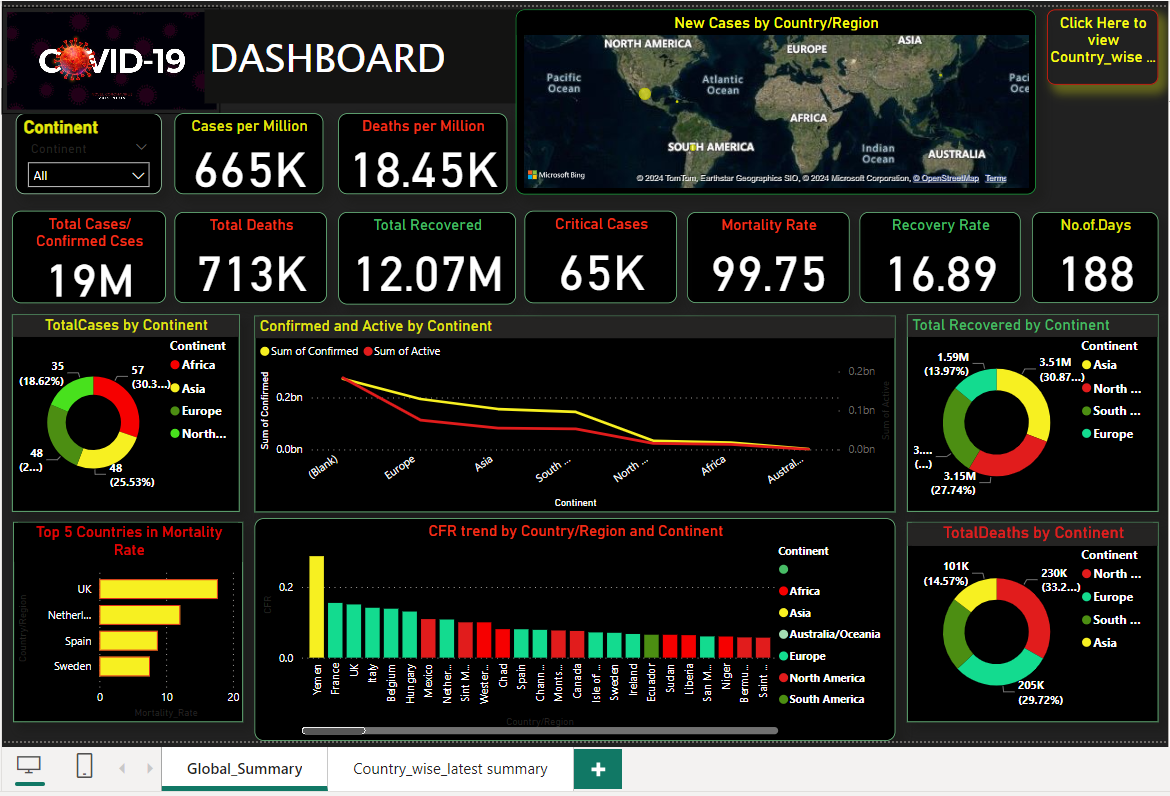

The dashboard page shown, as its layout file describes it:
{"tool":"powerbi","page":{"name":"Global_Summary","canvas":[1291,813],"ordinal":0},"visuals":[{"type":"card","title":"Total Cases/ Confirmed Cses","fields":{"Values":["Sum(worldometer_data.TotalCases)"]},"box":[11.1,225.6,170.2,102.4],"z":0},{"type":"card","title":"Total Deaths","fields":{"Values":["Sum(worldometer_data.TotalDeaths)"]},"box":[191,227,168.8,101],"z":1000},{"type":"card","title":"Total Recovered","fields":{"Values":["Sum(worldometer_data.TotalRecovered)"]},"box":[372.3,227,196.5,102.4],"z":2000},{"type":"slicer","title":"Continent","fields":{"Values":["worldometer_data.Continent"]},"box":[15.2,117.6,161.9,90],"z":3000},{"type":"card","title":"No.of.Days","fields":{"Values":["Count(full_grouped.Date)"]},"box":[1140.4,227,139.8,101],"z":4000},{"type":"lineChart","title":"Confirmed and Active by Continent","fields":{"Y":["Sum(full_grouped.Confirmed)"],"Y2":["Sum(full_grouped.Active)"],"Category":["worldometer_data.Continent"]},"box":[279.6,341.9,710,217.3],"z":5000},{"type":"card","title":"Recovery Rate","fields":{"Values":["worldometer_data.Recovery_Rate"]},"box":[949.4,227,178.5,101],"z":6000},{"type":"card","title":"Mortality Rate","fields":{"Values":["worldometer_data.Mortality_Rate"]},"box":[758.4,227,179.9,101],"z":7000},{"type":"lineStackedColumnComboChart","title":"CFR trend  by Country/Region and Continent","fields":{"Y":["worldometer_data.CFR"],"Series":["worldometer_data.Continent"],"Category":["worldometer_data.Country/Region"]},"box":[279.6,566.1,710,246.4],"z":8000},{"type":"image","box":[0,0,241.5,118],"z":9000},{"type":"textbox","box":[223.7,2.7,370.5,104.3],"z":10000},{"type":"card","title":"Critical Cases","fields":{"Values":["Sum(worldometer_data.Serious,Critical)"]},"box":[578.5,225.6,168.8,102.4],"z":11000},{"type":"card","title":"Cases per Million","fields":{"Values":["Sum(worldometer_data.Tot Cases/1M pop)"]},"box":[191,117.6,164.7,90],"z":12000},{"type":"card","title":"Deaths per Million","fields":{"Values":["Sum(worldometer_data.Deaths/1M pop)"]},"box":[372.3,117.6,186.8,90],"z":13000},{"type":"donutChart","title":" TotalCases by Continent","fields":{"Y":["CountNonNull(worldometer_data.TotalCases)"],"Category":["worldometer_data.Continent"]},"box":[11.1,340.5,251.9,218.7],"z":14000},{"type":"donutChart","title":"TotalDeaths by Continent","fields":{"Y":["Sum(worldometer_data.TotalDeaths)"],"Category":["worldometer_data.Continent"]},"box":[1002,570.2,278.2,221.4],"z":15000},{"type":"donutChart","title":"Total Recovered by Continent","fields":{"Y":["Sum(worldometer_data.TotalRecovered)"],"Category":["worldometer_data.Continent"]},"box":[1002,340.5,278.2,218.7],"z":16000},{"type":"barChart","title":"Top 5 Countries in Mortality Rate","fields":{"Category":["worldometer_data.Country/Region"],"Y":["worldometer_data.Mortality_Rate"]},"box":[12.5,570.2,254.7,221.4],"z":17000},{"type":"map","title":"New Cases by Country/Region","fields":{"Category":["worldometer_data.Country/Region"],"Size":["Sum(worldometer_data.NewCases)"]},"box":[568.8,2.8,575.7,204.8],"z":18000},{"type":"actionButton","title":"Click Here to view  Country_wise Summary ","box":[1157,2.8,123.2,83],"z":19000}]}

Visuals, with their boxes on the page's 1291x813 design canvas (x1, y1, x2, y2). These are canvas units, not pixel positions in the 1170x796 screenshot, which may show the page scaled, cropped or inside an application window:
"Total Cases/ Confirmed Cses" card: x1=11 y1=226 x2=181 y2=328
"Total Deaths" card: x1=191 y1=227 x2=360 y2=328
"Total Recovered" card: x1=372 y1=227 x2=569 y2=329
"Continent" slicer: x1=15 y1=118 x2=177 y2=208
"No.of.Days" card: x1=1140 y1=227 x2=1280 y2=328
"Confirmed and Active by Continent" lineChart: x1=280 y1=342 x2=990 y2=559
"Recovery Rate" card: x1=949 y1=227 x2=1128 y2=328
"Mortality Rate" card: x1=758 y1=227 x2=938 y2=328
"CFR trend  by Country/Region and Continent" lineStackedColumnComboChart: x1=280 y1=566 x2=990 y2=812
image: x1=0 y1=0 x2=242 y2=118
textbox: x1=224 y1=3 x2=594 y2=107
"Critical Cases" card: x1=578 y1=226 x2=747 y2=328
"Cases per Million" card: x1=191 y1=118 x2=356 y2=208
"Deaths per Million" card: x1=372 y1=118 x2=559 y2=208
" TotalCases by Continent" donutChart: x1=11 y1=340 x2=263 y2=559
"TotalDeaths by Continent" donutChart: x1=1002 y1=570 x2=1280 y2=792
"Total Recovered by Continent" donutChart: x1=1002 y1=340 x2=1280 y2=559
"Top 5 Countries in Mortality Rate" barChart: x1=12 y1=570 x2=267 y2=792
"New Cases by Country/Region" map: x1=569 y1=3 x2=1144 y2=208
"Click Here to view  Country_wise Summary " actionButton: x1=1157 y1=3 x2=1280 y2=86
